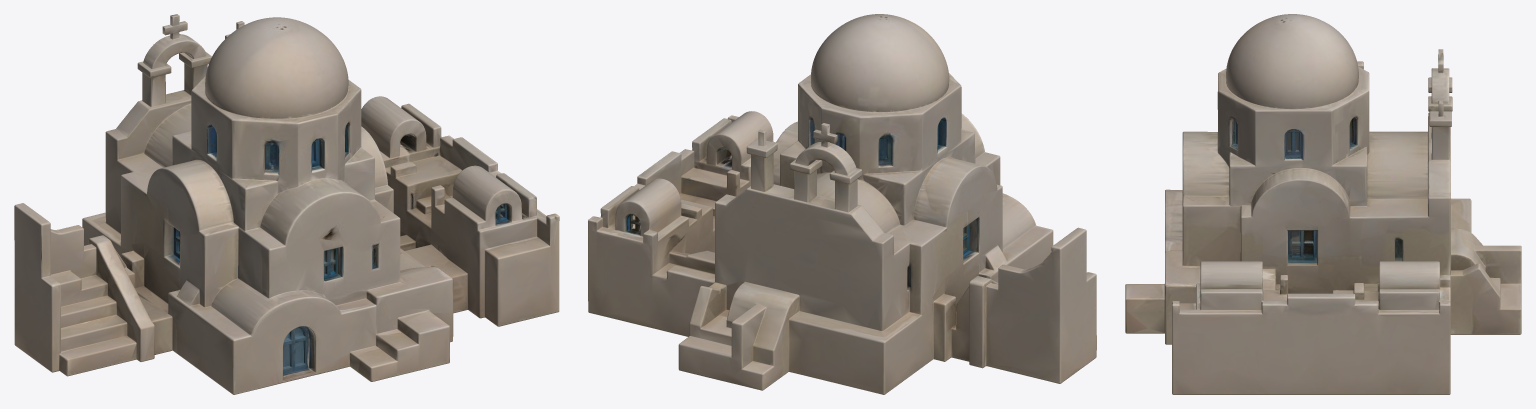
3 views of the same model, side by side, from view 1: azimuth 30°, elevation 25°; view 2: azimuth 150°, elevation 25°; view 3: azimuth 270°, elevation 25° (orthographic). The views are drawn at different scales.
Visible parts, largest first — view 1: Untitled_4; view 2: Untitled_4; view 3: Untitled_4.
Boxes of the visible parts, x1=… form: Untitled_4: x1=14, y1=14, x2=559, y2=394; Untitled_4: x1=588, y1=14, x2=1096, y2=394; Untitled_4: x1=1125, y1=14, x2=1521, y2=394.
Bounding box in the file's own units: 2 × 1.27 × 1.65.
1 material, 1 textured.
